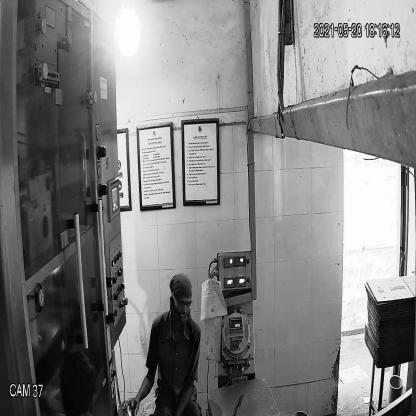goggles: (169, 292, 195, 314)
